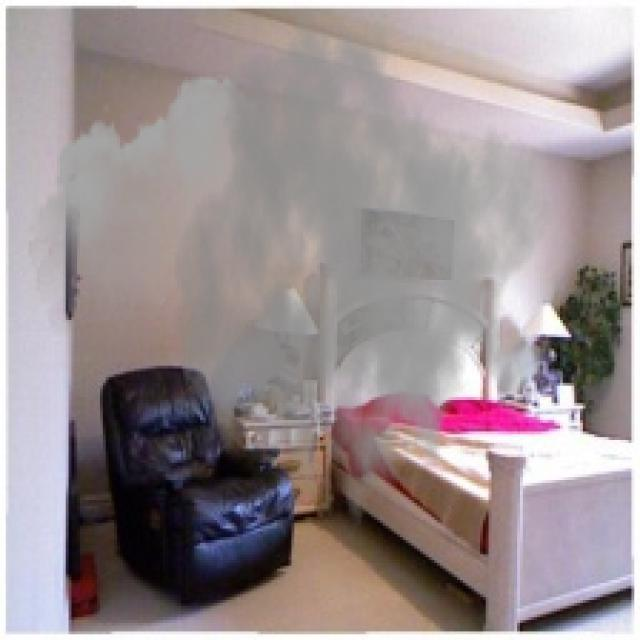Smoke: (28, 6, 554, 552)
